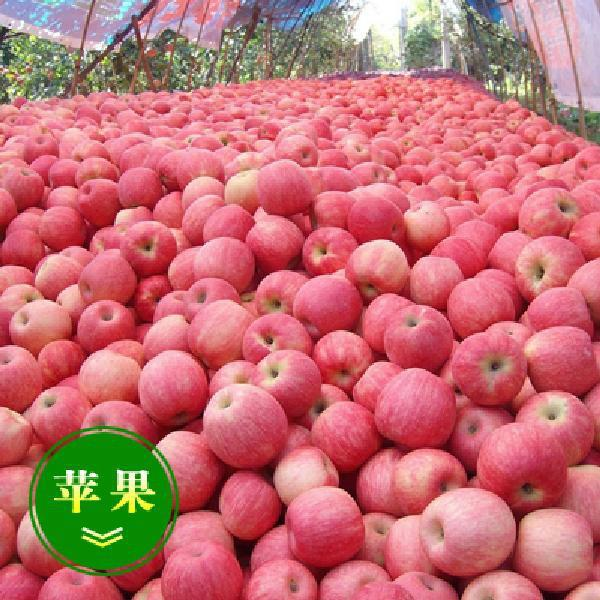apple: (420, 488, 515, 576), (474, 419, 569, 507), (203, 378, 289, 466), (287, 480, 365, 563), (375, 367, 454, 445), (145, 431, 223, 510), (517, 508, 590, 591), (135, 348, 207, 429), (523, 327, 600, 400), (515, 390, 592, 463), (448, 330, 525, 403), (513, 235, 583, 303), (158, 542, 242, 598), (185, 300, 252, 369), (292, 273, 361, 337), (446, 278, 515, 335), (345, 239, 409, 298), (118, 220, 178, 278), (77, 246, 137, 304), (251, 157, 311, 215), (26, 385, 89, 439), (7, 298, 71, 348), (193, 234, 253, 285), (244, 216, 303, 267), (77, 349, 139, 397), (73, 301, 130, 350), (346, 192, 402, 240), (302, 225, 358, 273), (1, 342, 38, 409)
